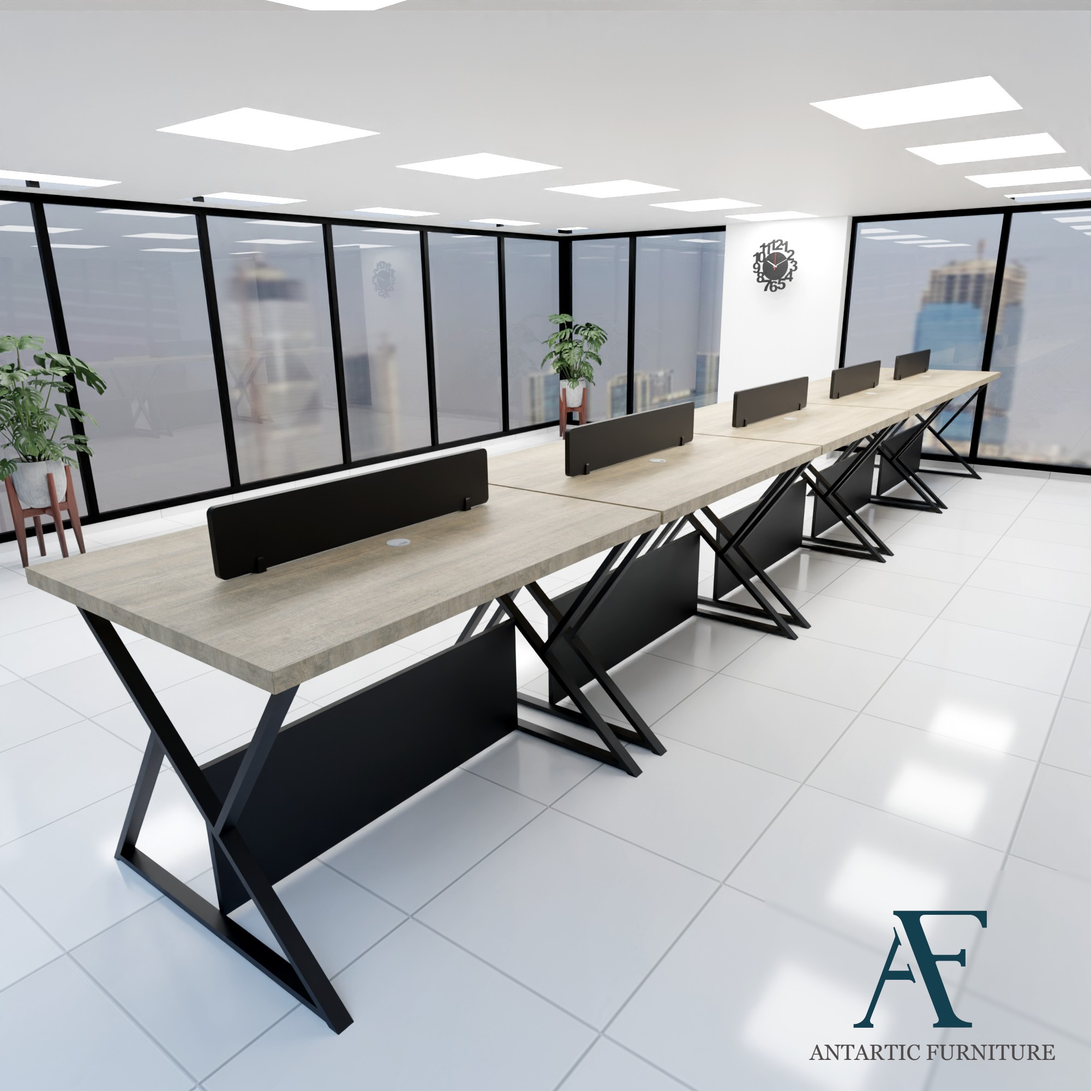not a gesture sign: (0, 435, 1090, 1090)
